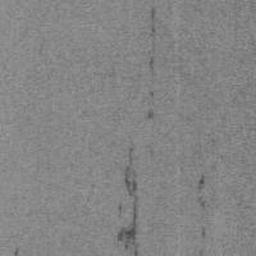Inclusion: (115, 145, 142, 256), (146, 5, 161, 77), (196, 175, 209, 211), (14, 246, 19, 256)
